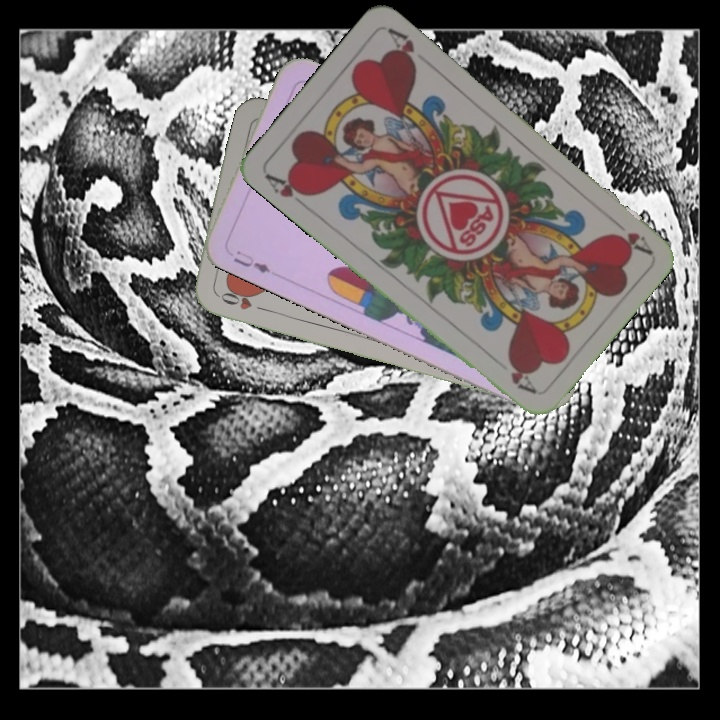EU: (229, 246, 273, 276)
HA: (261, 169, 314, 212), (604, 212, 654, 256)
HO: (212, 288, 270, 314)
